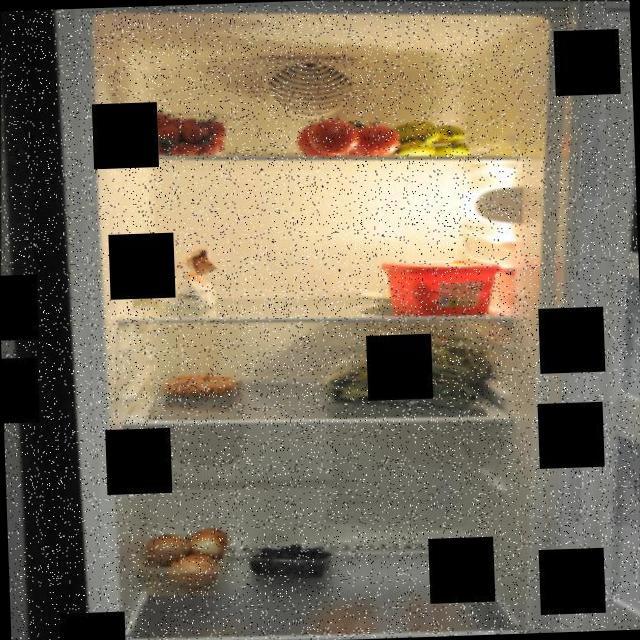Cebolla: (141, 522, 228, 592)
Gambas/Langostinos: (158, 366, 246, 398)
Mantequilla: (376, 250, 508, 324)
Plátano: (384, 106, 477, 162)
Tomate: (290, 106, 404, 160)
